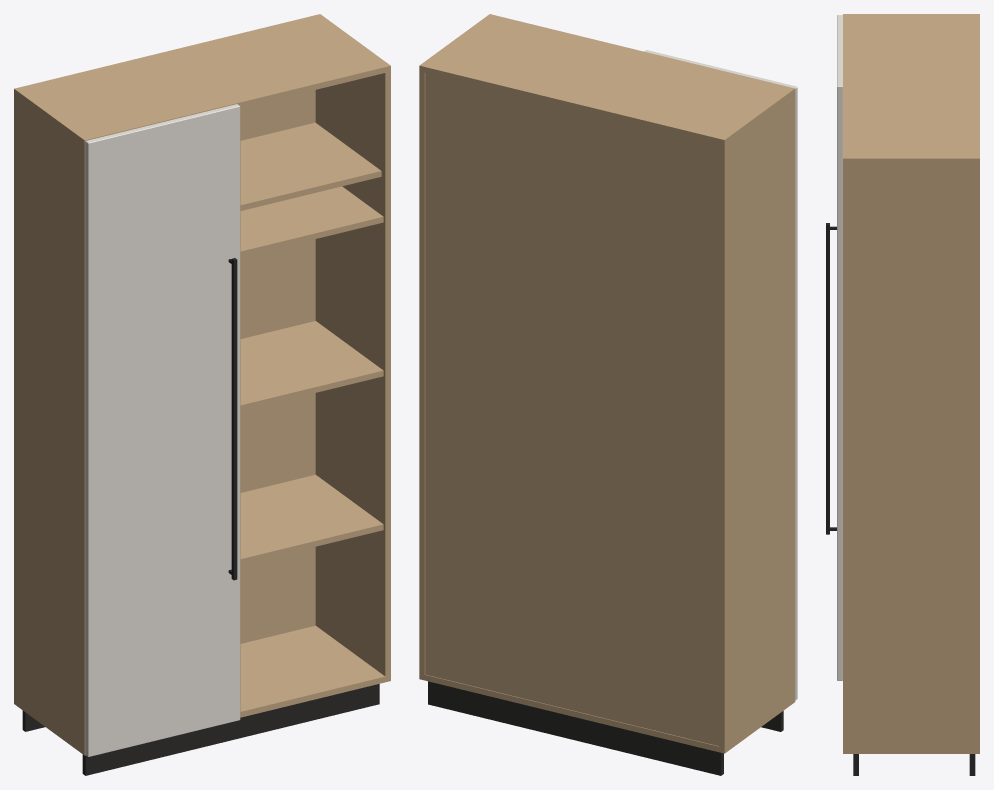
Rendered from 21_szafa_przedpokoj_100.glb.
3 views of the same model, side by side, from view 1: azimuth 30°, elevation 25°; view 2: azimuth 150°, elevation 25°; view 3: azimuth 270°, elevation 25° (orthographic). The views are drawn at different scales.
Parts seen in each view (by area): view 1: Korpus, Front_drzwi_1, Cokol, Uchwyty; view 2: Korpus, Cokol, Front_drzwi_1; view 3: Korpus, Front_drzwi_1, Uchwyty.
Boxes of the visible parts, x1=… form: Korpus: x1=14, y1=14, x2=390, y2=755; Front_drzwi_1: x1=85, y1=104, x2=240, y2=756; Cokol: x1=22, y1=684, x2=379, y2=775; Uchwyty: x1=228, y1=258, x2=237, y2=580; Korpus: x1=419, y1=14, x2=795, y2=753; Cokol: x1=428, y1=681, x2=783, y2=775; Front_drzwi_1: x1=644, y1=50, x2=797, y2=700; Korpus: x1=843, y1=14, x2=979, y2=753; Front_drzwi_1: x1=837, y1=15, x2=842, y2=680; Uchwyty: x1=826, y1=223, x2=836, y2=534.
Bounding box in the file's own units: 1 × 2 × 0.45.
